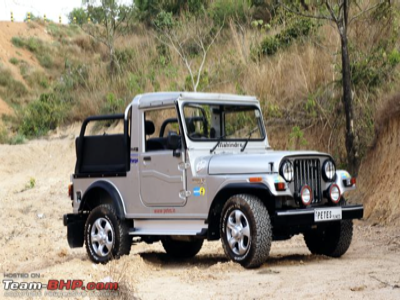licence: (311, 206, 346, 227)
